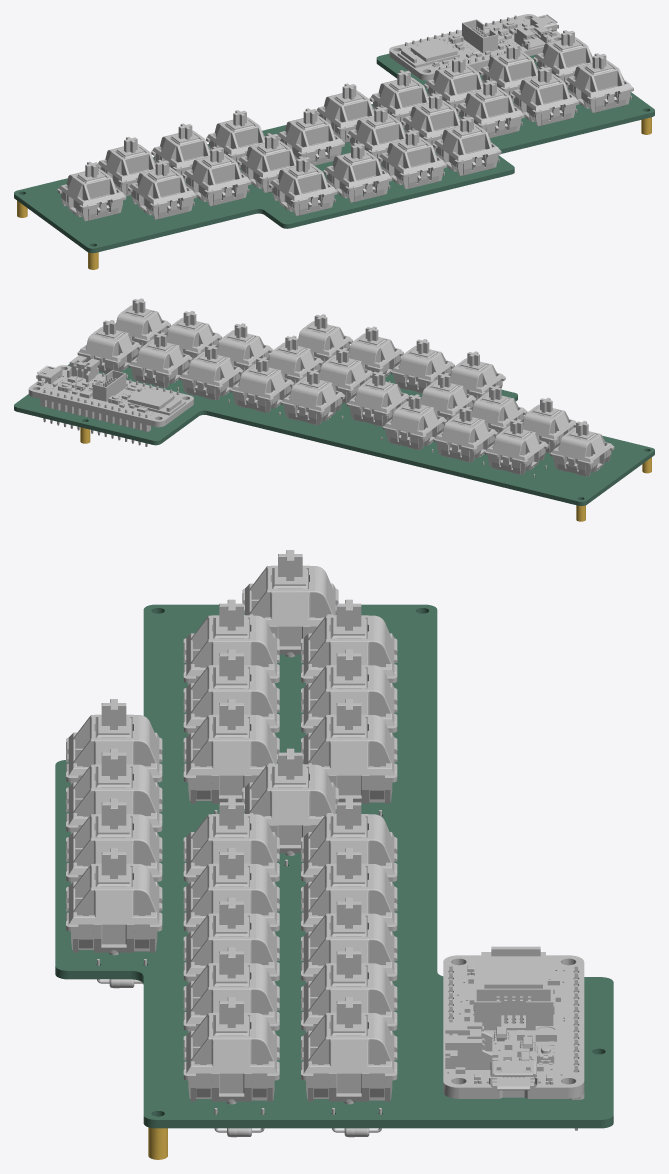
The model's file is steno_pcb.glb.
3 views of the same model, one above another, from view 1: azimuth 30°, elevation 25°; view 2: azimuth 150°, elevation 25°; view 3: azimuth 270°, elevation 25° (orthographic). The views are drawn at different scales.
Parts seen in each view (by area): view 1: part (×44), Stenography PCB Design 1_PCB, Board.step; view 2: part (×36), Stenography PCB Design 1_PCB, Board.step, 4u20329.step; view 3: part (×54), Stenography PCB Design 1_PCB, Board.step, 4u20329.step.
Part boxes in pixels (left/top/right/bottom): part (×44): left=57, top=19, right=633, bottom=221; Stenography PCB Design 1_PCB: left=14, top=53, right=654, bottom=253; Board.step: left=389, top=14, right=561, bottom=80; part (×36): left=67, top=305, right=614, bottom=476; Stenography PCB Design 1_PCB: left=14, top=355, right=654, bottom=505; Board.step: left=28, top=365, right=193, bottom=427; 4u20329.step: left=36, top=365, right=62, bottom=384; part (×54): left=66, top=550, right=553, bottom=1104; Stenography PCB Design 1_PCB: left=55, top=604, right=613, bottom=1128; Board.step: left=443, top=955, right=584, bottom=1098; 4u20329.step: left=486, top=1060, right=540, bottom=1090.
Size of the model in its own units: 0.1976 by 0.023 by 0.0905.
